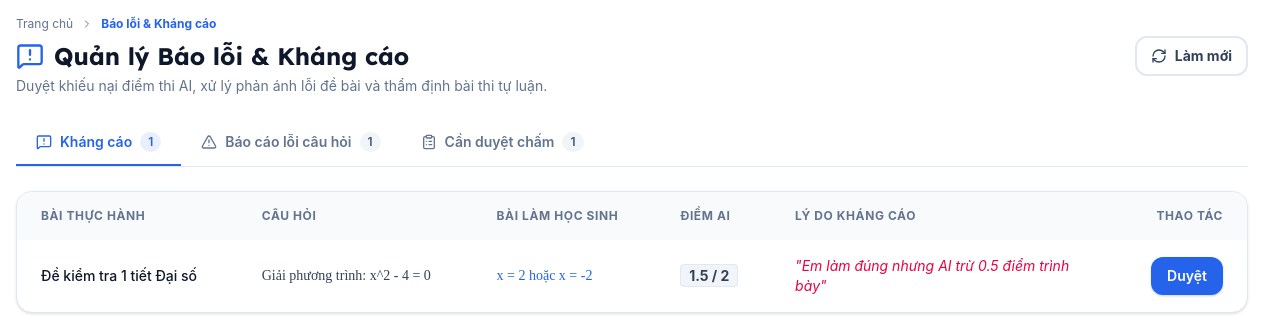
Test: AppealsPage › switches between tabs properly
Expected: the text "Đề kiểm tra 1 tiết Đại số" is shown, x1=17 y1=240 x2=238 y2=312
Note: Switch to Reports tab
Click the button "Báo cáo lỗi câu hỏi 1". click: (291, 143)
box: x1=181 y1=120 x2=401 y2=166
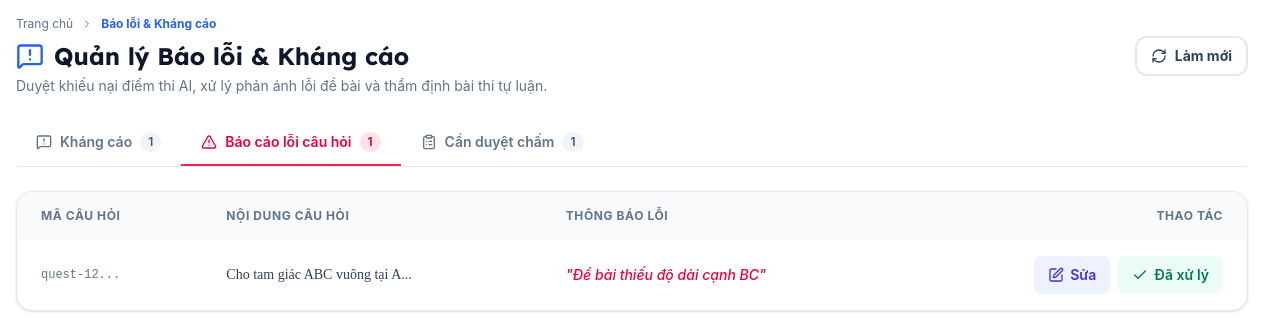
Expected: the text "\"Đề bài thiếu độ dài cạnh BC\"" is shown, x1=542 y1=240 x2=903 y2=310
Expected: the text "Cho tam giác ABC vuông tại A..." is shown, x1=226 y1=267 x2=412 y2=282
Note: Switch to Reviews tab
Click the button "Cần duyệt chấm 1". click: (502, 143)
box: x1=401 y1=120 x2=604 y2=166
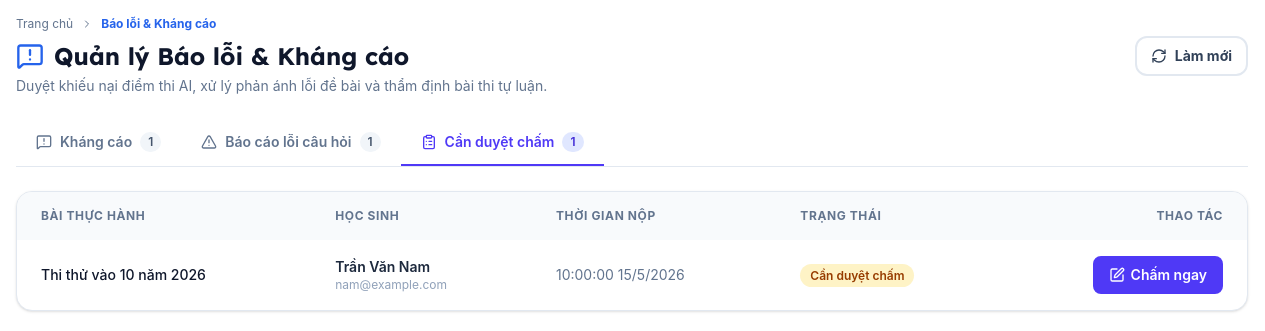
Expected: the text "Trần Văn Nam" is shown, x1=335 y1=258 x2=430 y2=275
Expected: the text "Thi thử vào 10 năm 2026" is shown, x1=17 y1=240 x2=311 y2=310
Expected: the link "Chấm ngay" is shown, x1=1093 y1=256 x2=1223 y2=294
